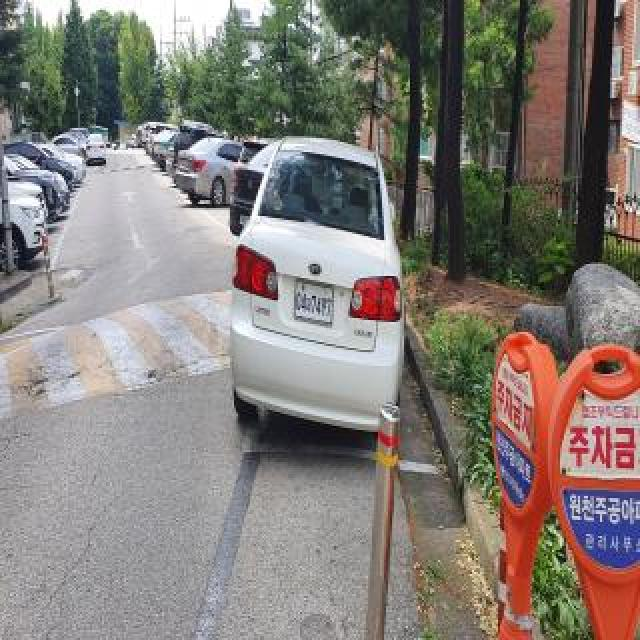car: (224, 130, 414, 447)
illegal_plate: (291, 282, 335, 330)
